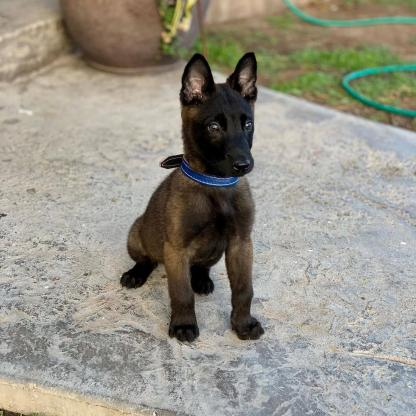Belgian Shepherd: (112, 47, 274, 350)
